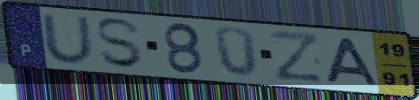0: (213, 25, 261, 80)
8: (162, 21, 205, 76)
A: (323, 35, 382, 88)
S: (93, 17, 147, 71)
U: (39, 13, 98, 66)
Z: (267, 28, 326, 84)
